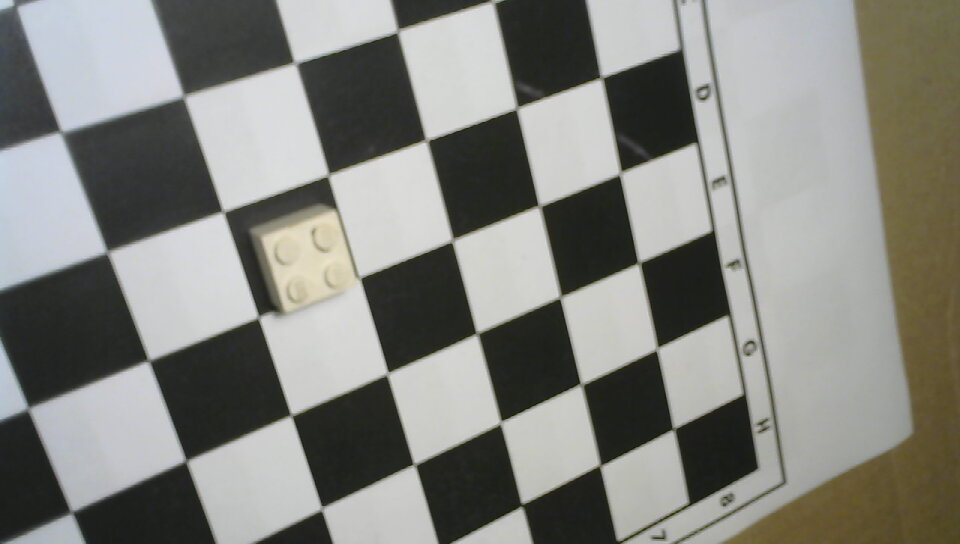wp: (245, 197, 362, 323)
